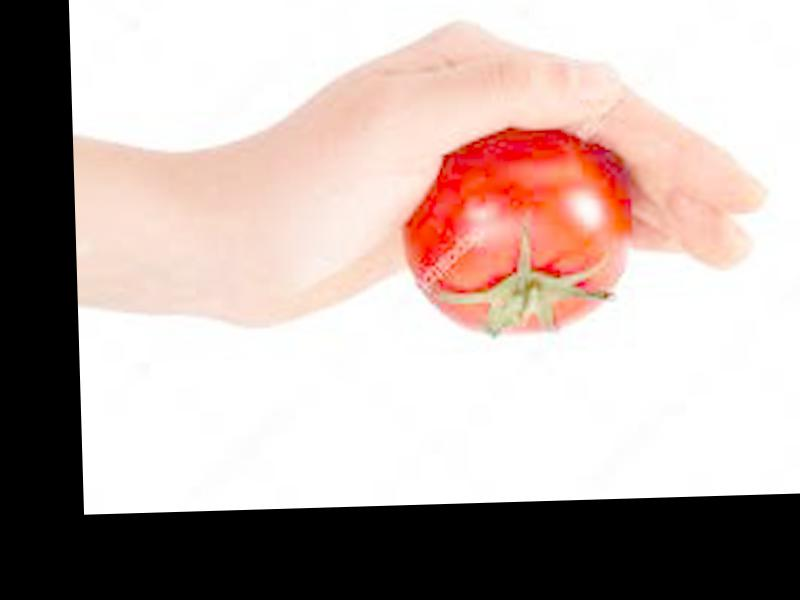Tomato: (397, 129, 628, 335)
